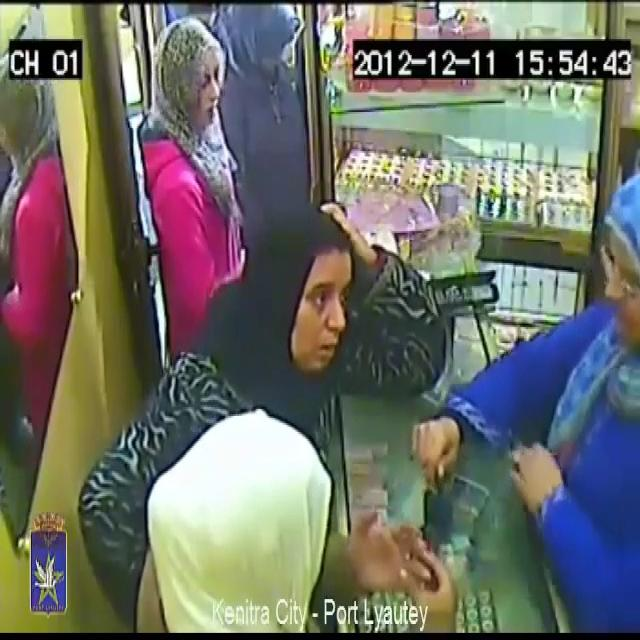Product: (411, 525, 441, 592)
normal: (458, 248, 640, 640), (129, 13, 257, 341), (246, 195, 378, 412), (204, 0, 304, 188)
shoplifting: (137, 392, 489, 640)
